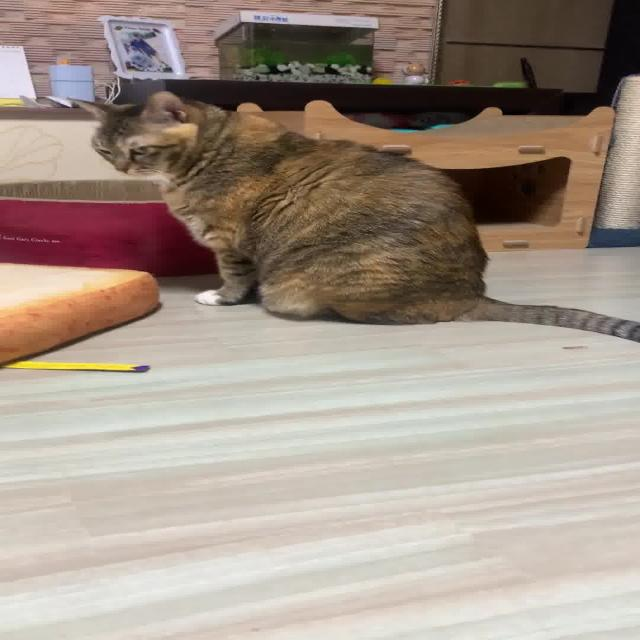cat: (55, 78, 640, 355)
